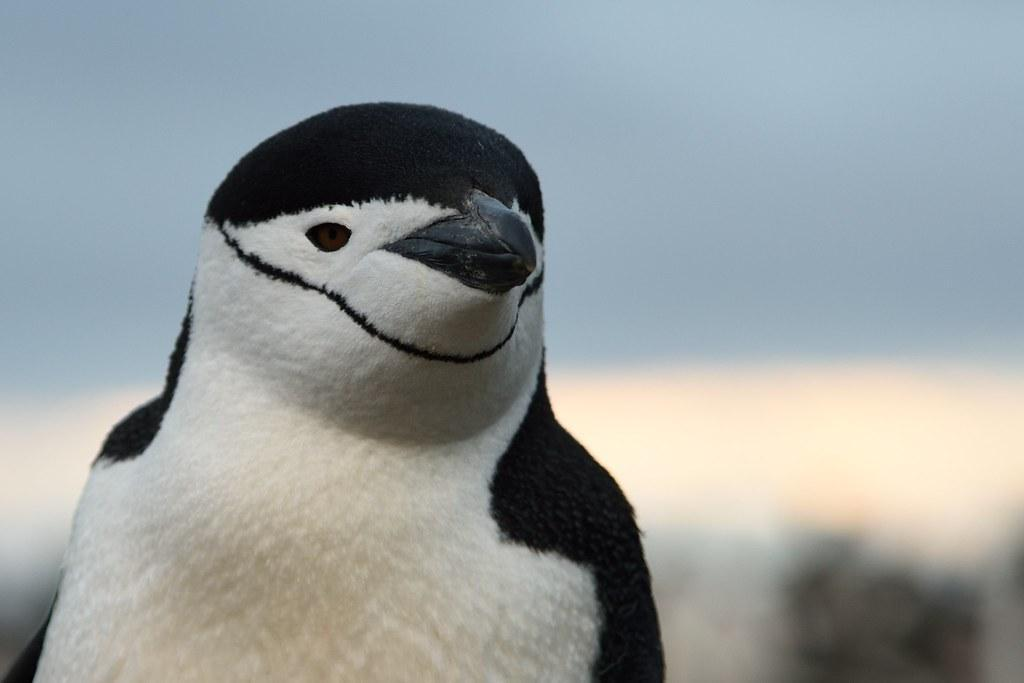Penguin: (10, 102, 664, 682)
